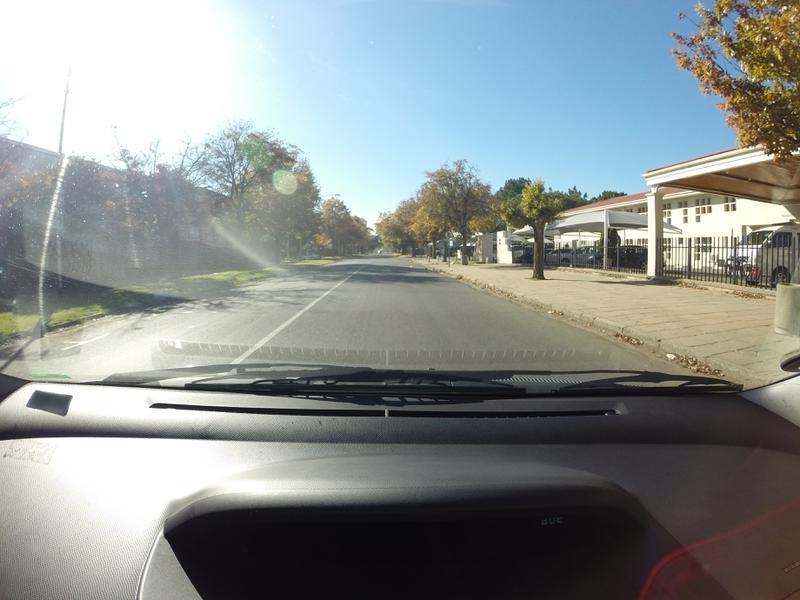pothole: (204, 300, 236, 313)
